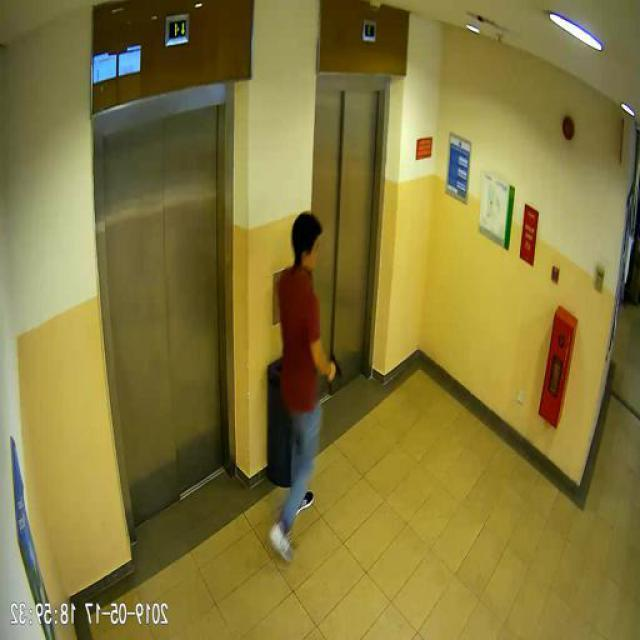Gun: (328, 352, 342, 380)
